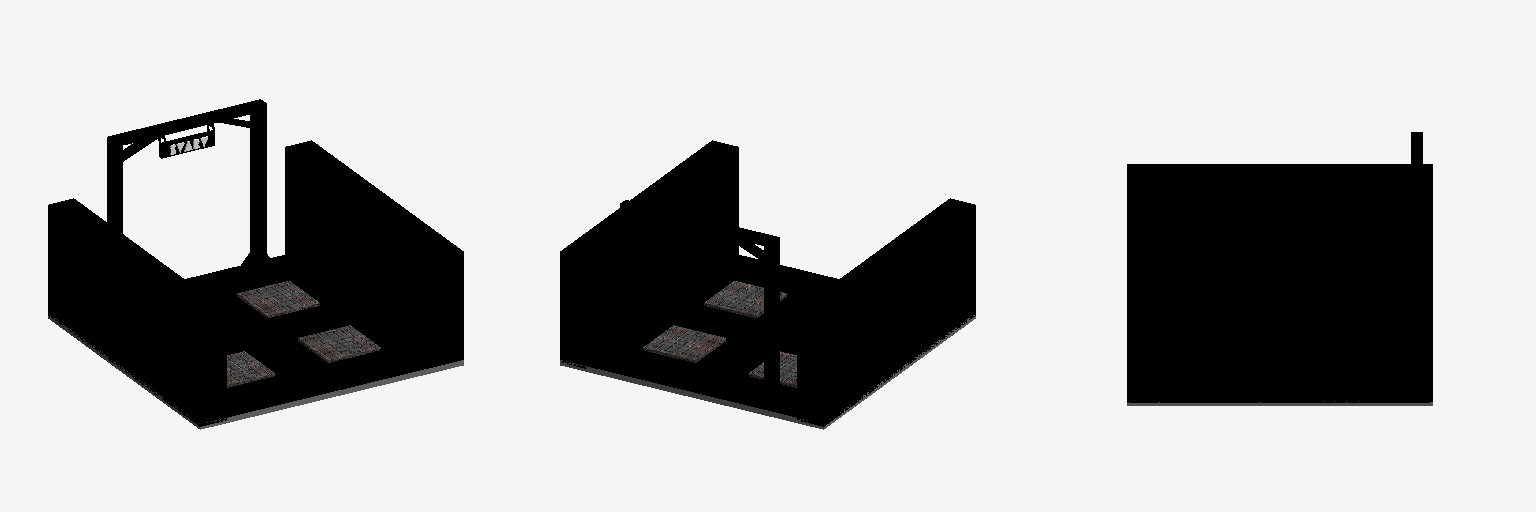
3 renders of one model, left to right at view 1: azimuth 30°, elevation 25°; view 2: azimuth 150°, elevation 25°; view 3: azimuth 270°, elevation 25°, orthographic.
Visible parts, largest first — view 1: Gerade_Start; view 2: Gerade_Start; view 3: Gerade_Start.
Part boxes in pixels (x1,y1,x2,y2): Gerade_Start: (48,99,463,429); Gerade_Start: (560,140,975,429); Gerade_Start: (1127,132,1432,405).
Bounding box in the file's own units: 5 × 3.1 × 5.
16 materials, 1 textured.